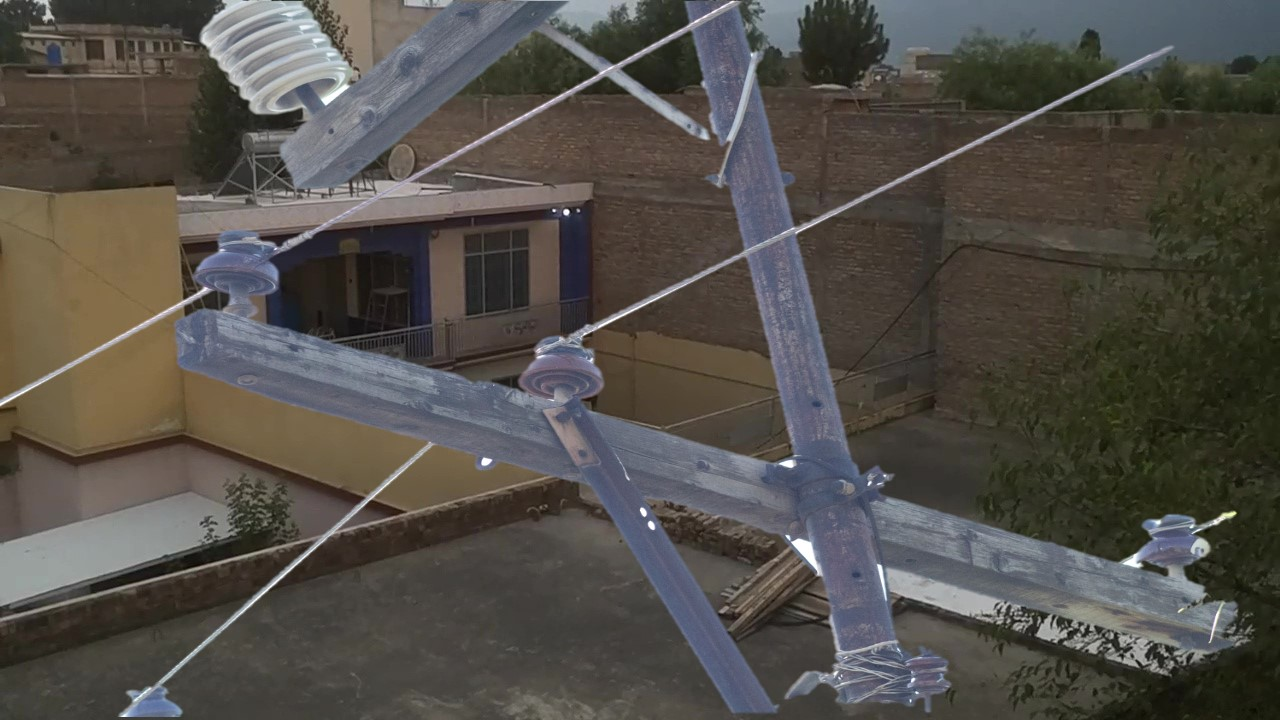defect_pin: (1128, 503, 1218, 574)
insulator_pin: (193, 222, 287, 304), (516, 326, 608, 405)
